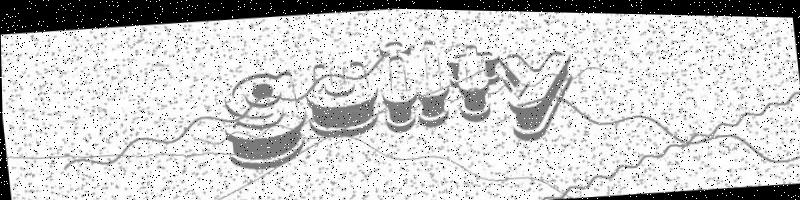g: (217, 61, 311, 170)
i: (374, 32, 420, 134), (409, 29, 453, 129)
t: (440, 38, 506, 121)
u: (291, 52, 384, 140)
y: (499, 40, 580, 140)
